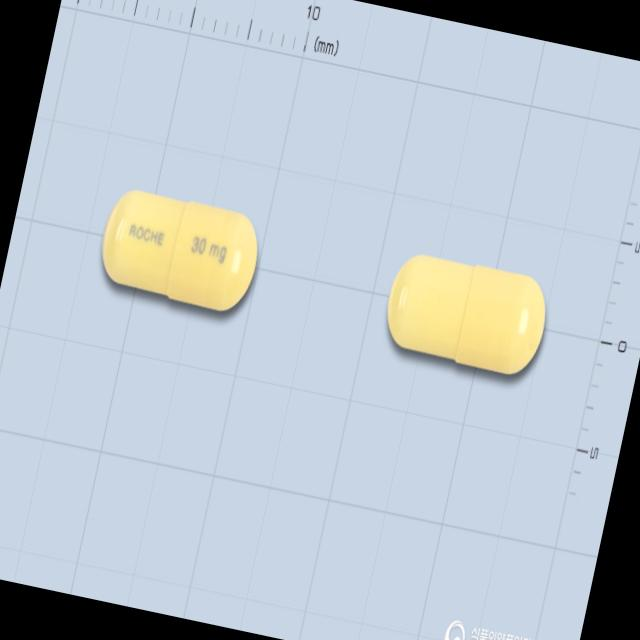Tamiflu Cap: (93, 184, 266, 318)
